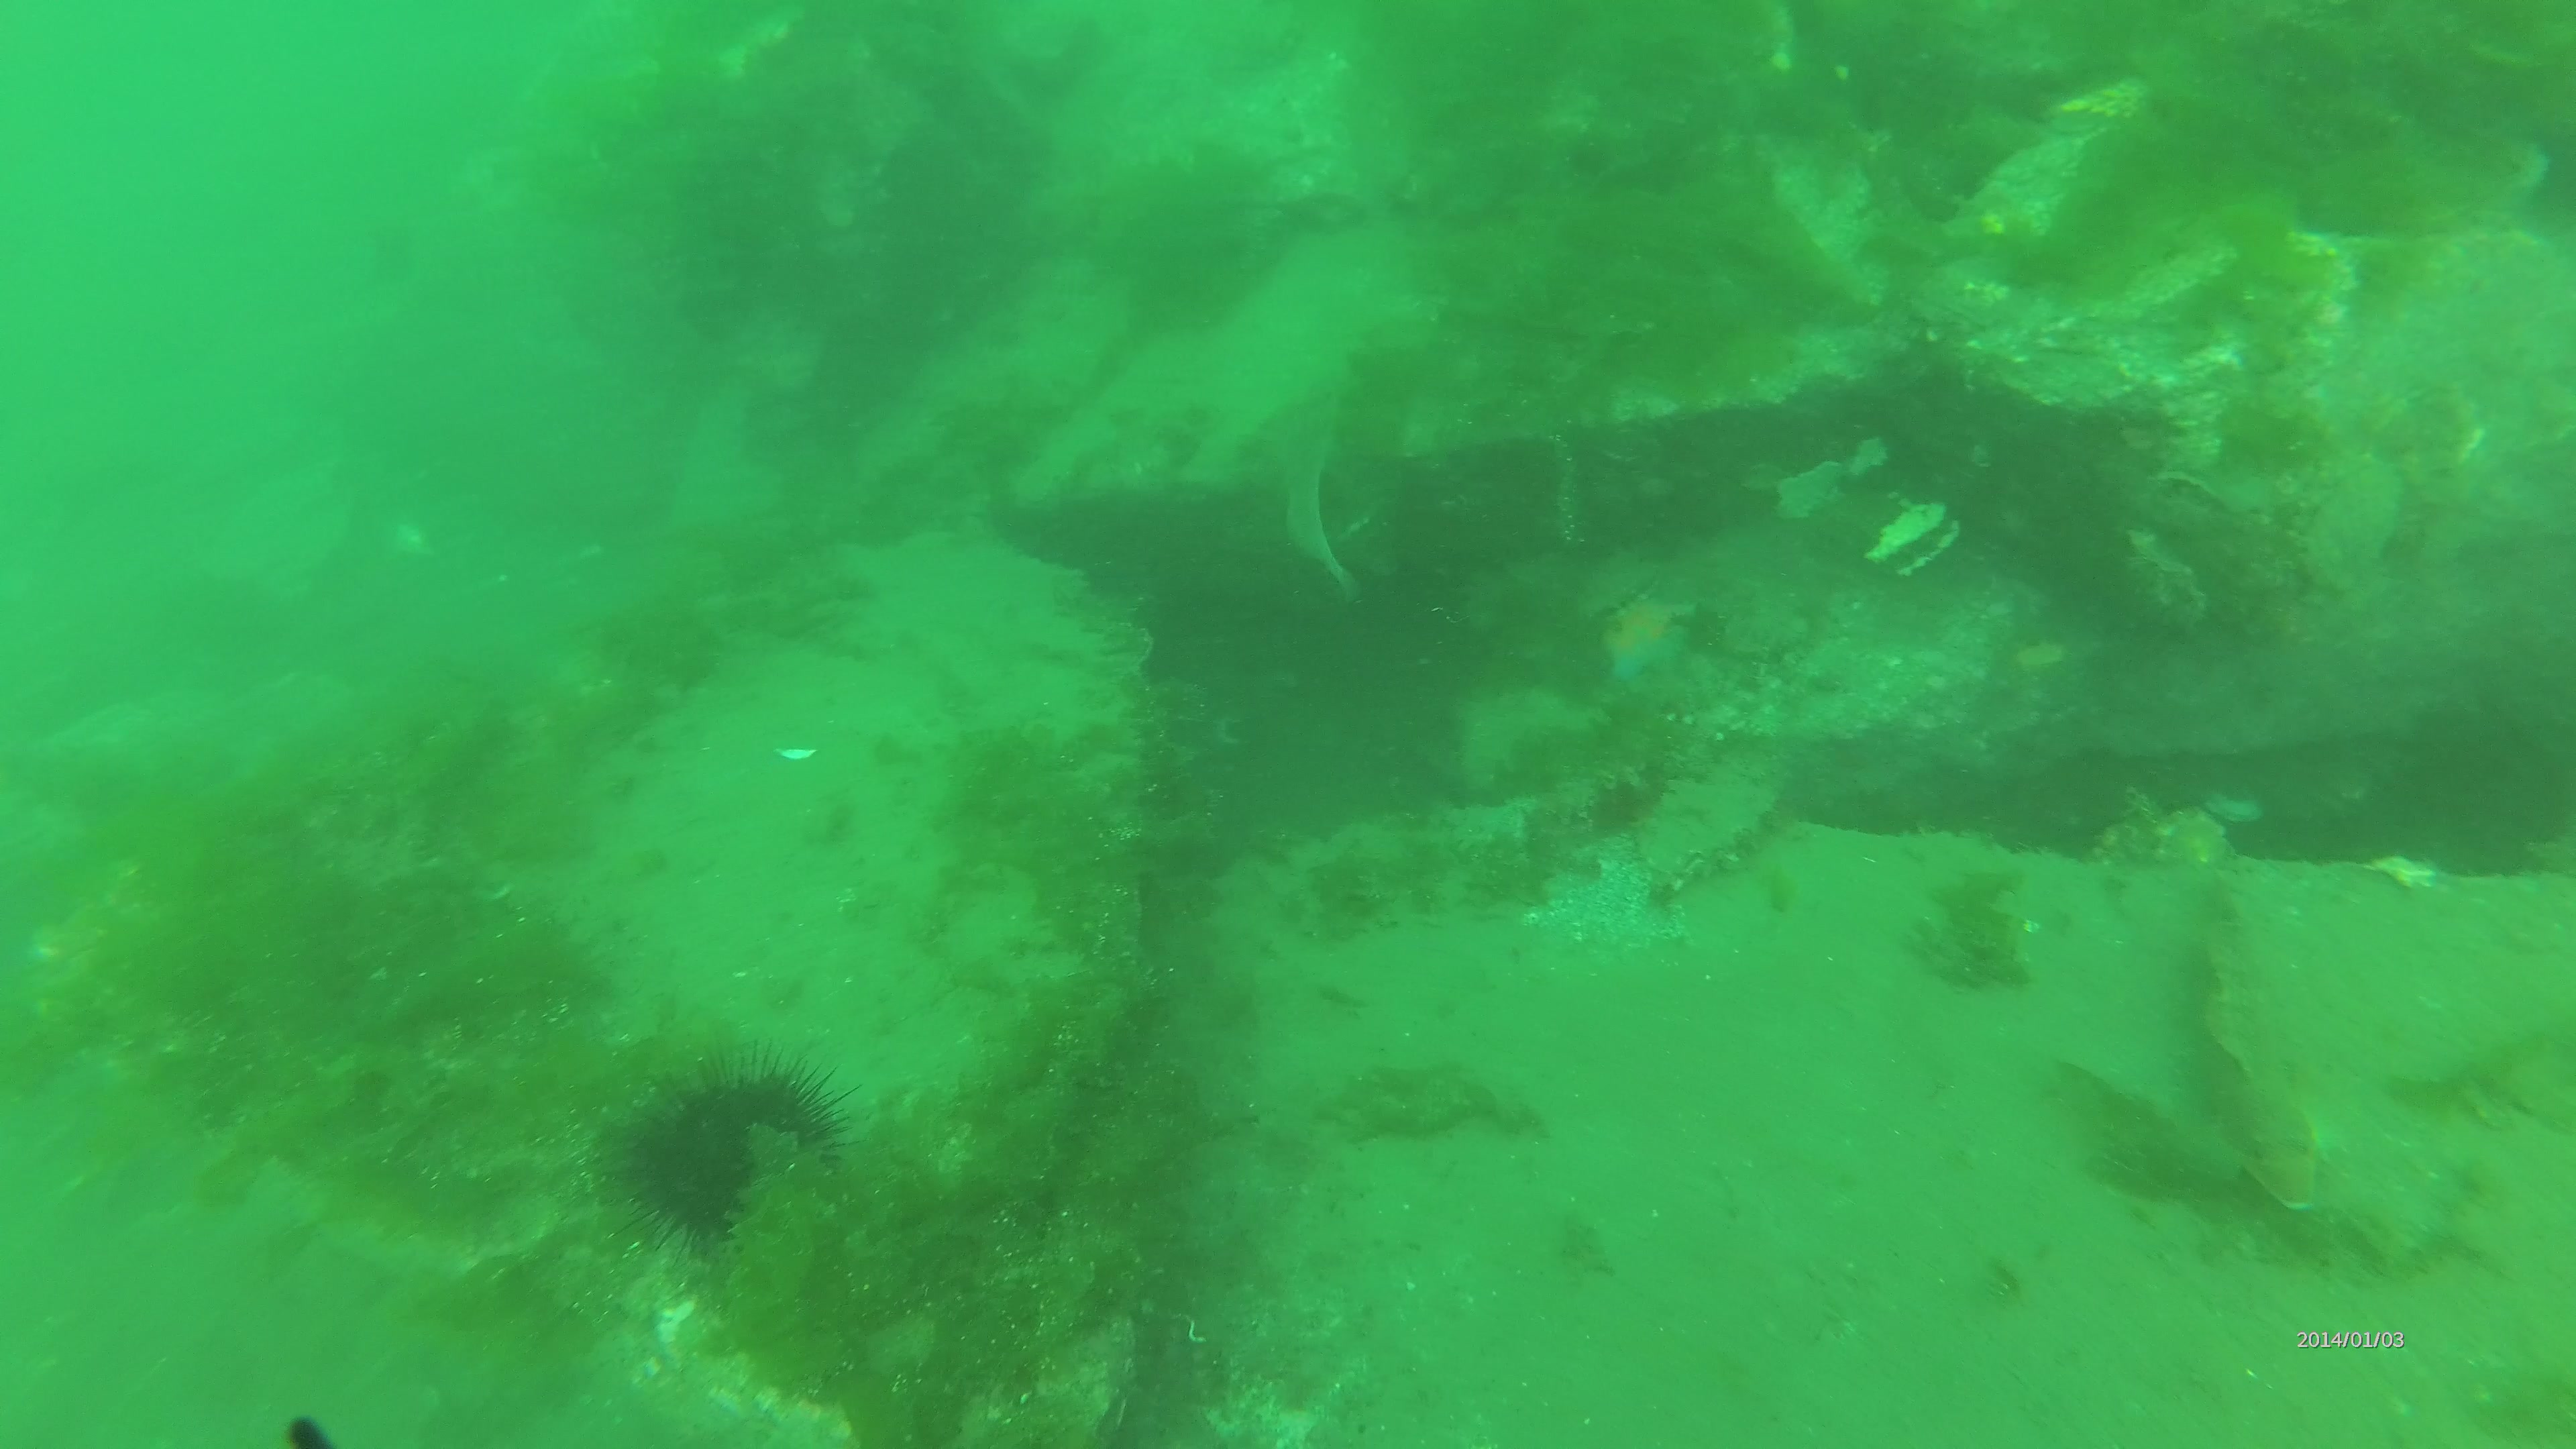echinus: (598, 1035, 869, 1269)
starfish: (1599, 586, 1698, 686)
